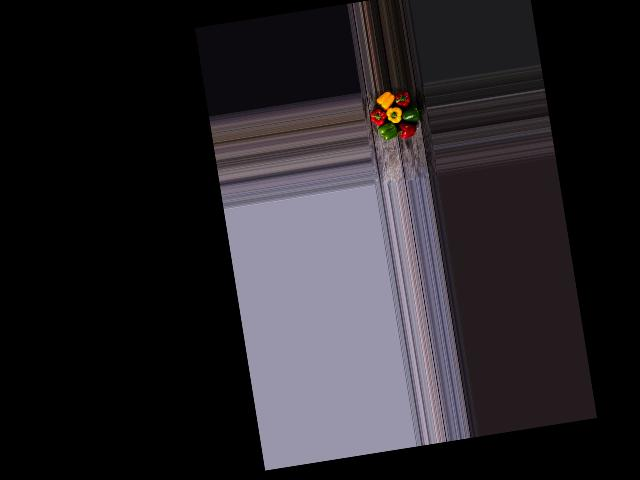bell_pepper: (390, 86, 411, 108)
